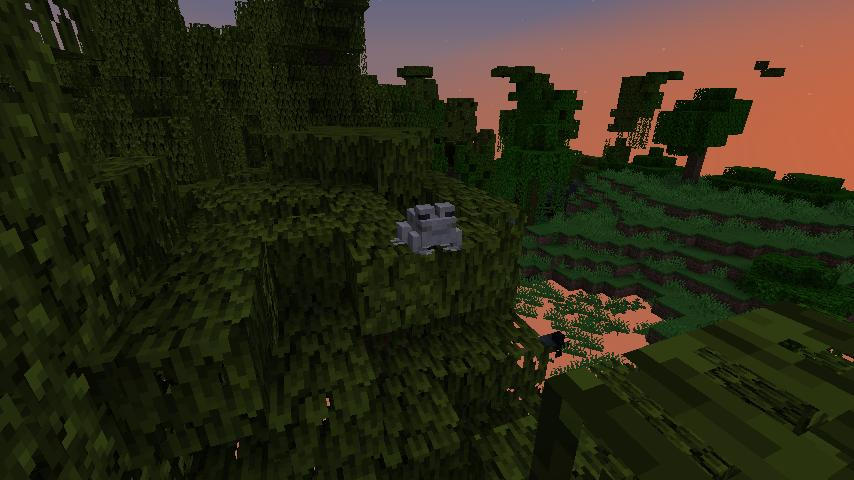frog: (387, 195, 469, 261)
